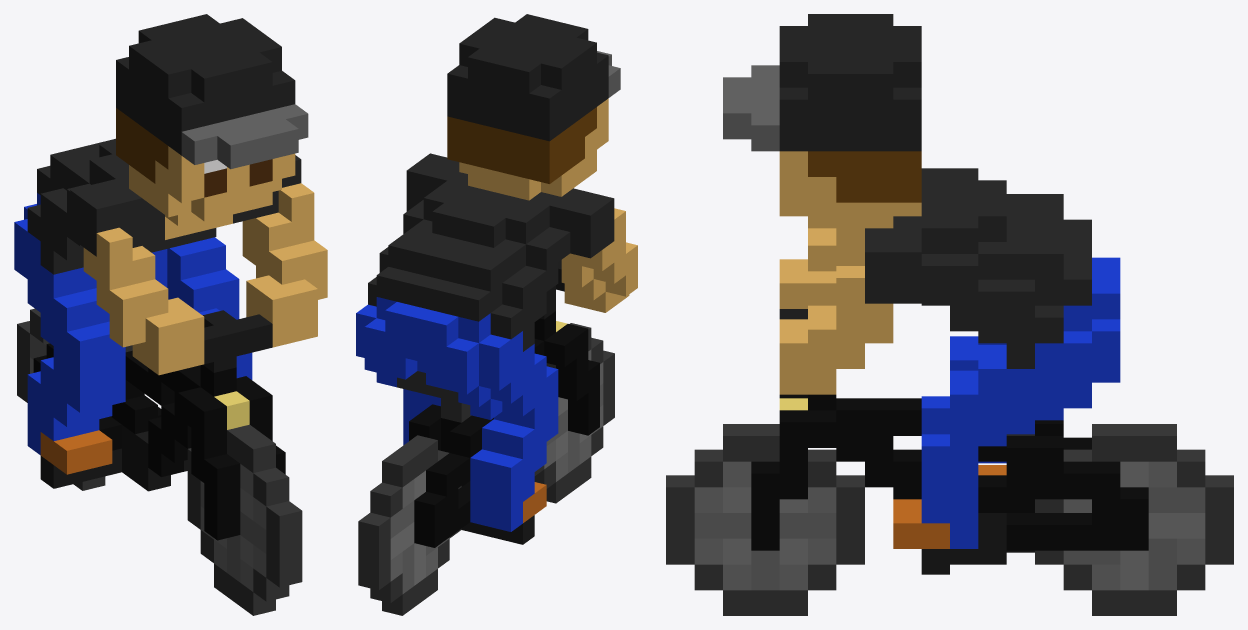
File: animation.obj
3 views of the same model, side by side, from view 1: azimuth 30°, elevation 25°; view 2: azimuth 150°, elevation 25°; view 3: azimuth 270°, elevation 25° (orthographic). The views are drawn at different scales.
Bounding box in the file's own units: 9 × 22 × 20.
1 material, 1 textured.
